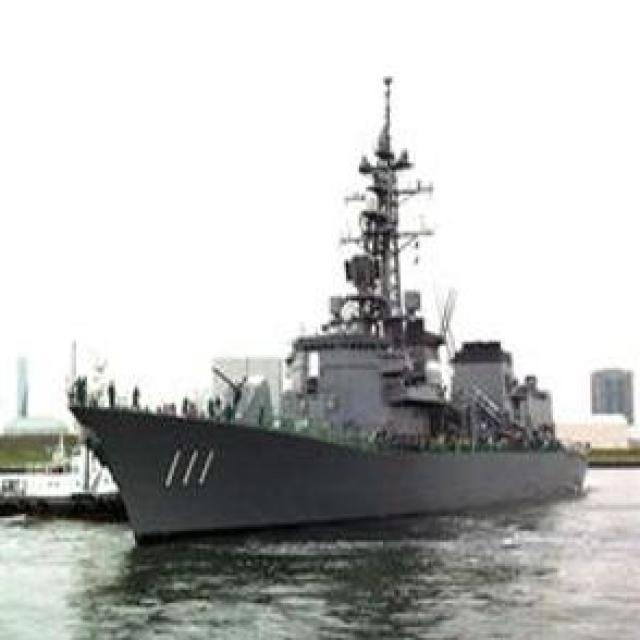navalvessels: (57, 62, 589, 552)
